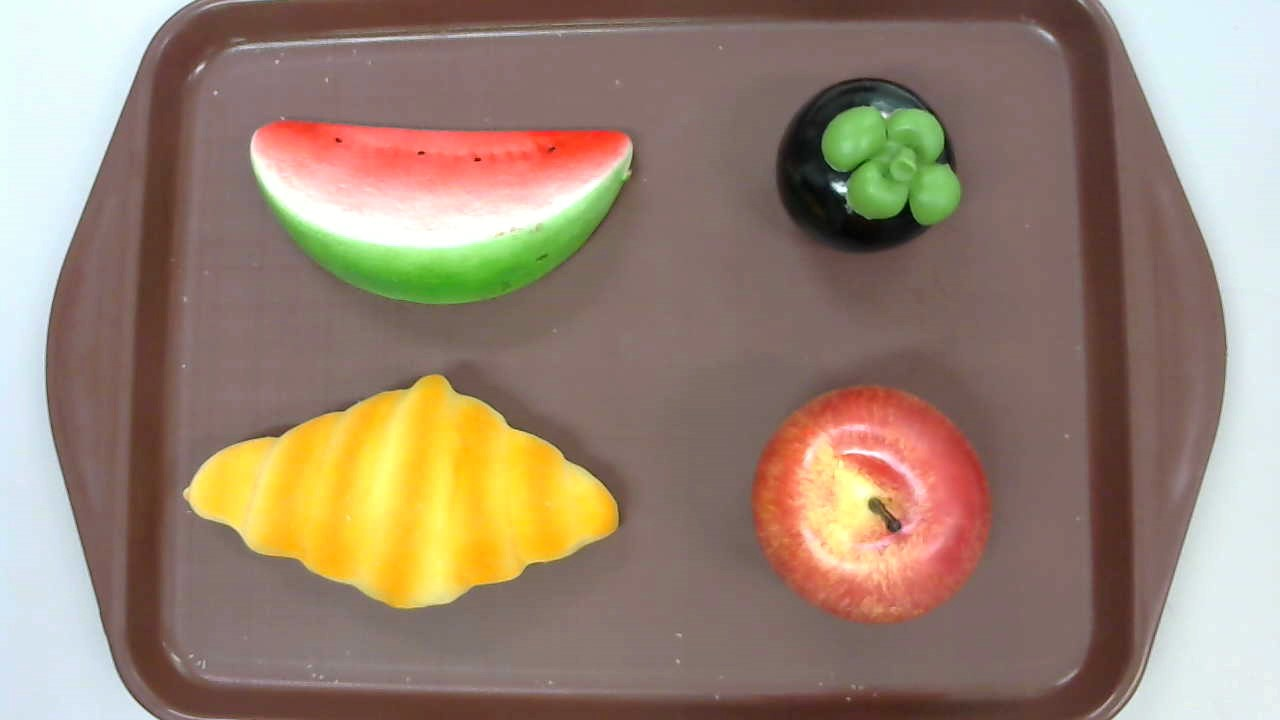croissant: (182, 373, 619, 611)
mangosteen: (776, 77, 962, 257)
red apple: (754, 383, 990, 624)
water melon: (250, 119, 633, 308)
